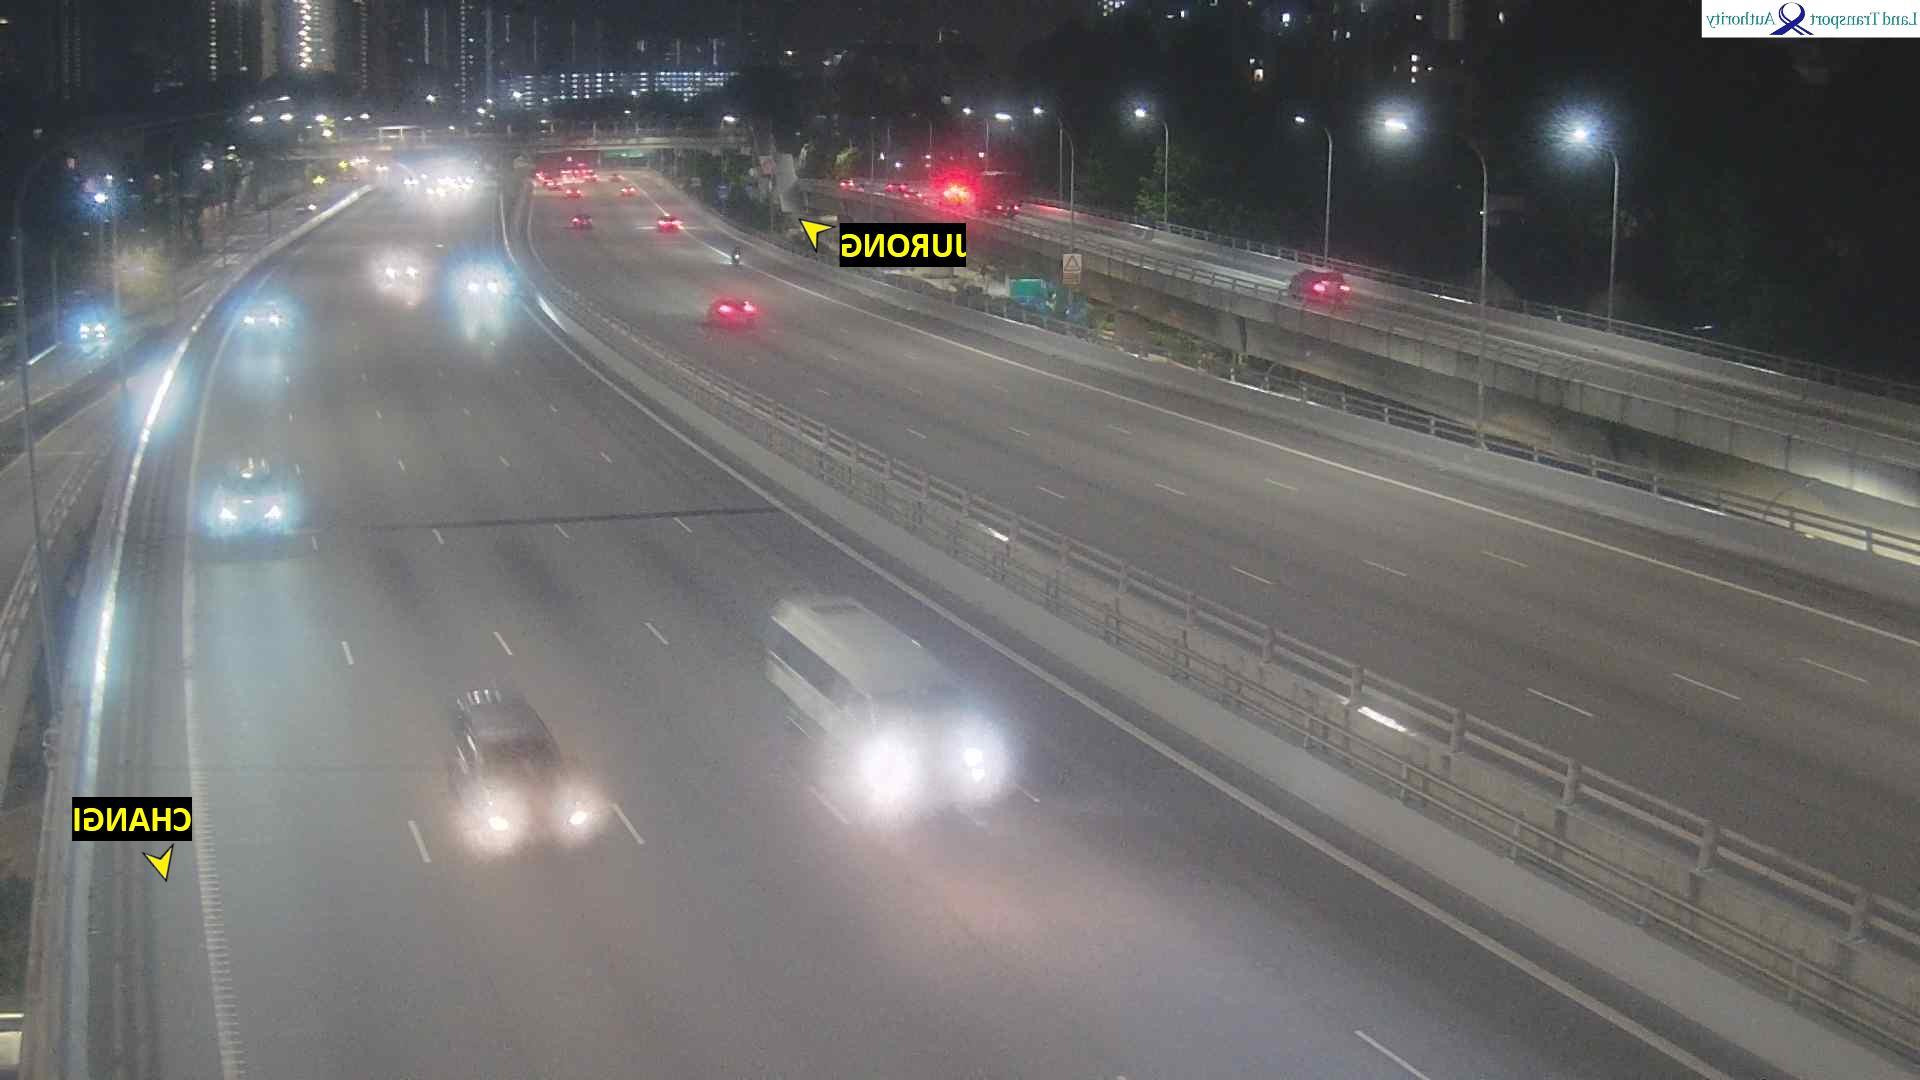incoming: (848, 678, 1010, 827), (460, 732, 589, 851), (200, 471, 302, 550), (236, 299, 287, 339)
